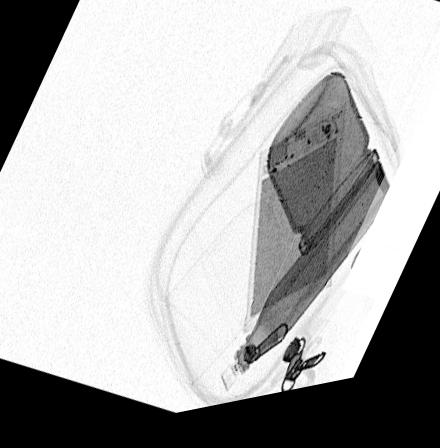Powerbank: (242, 120, 347, 341)
